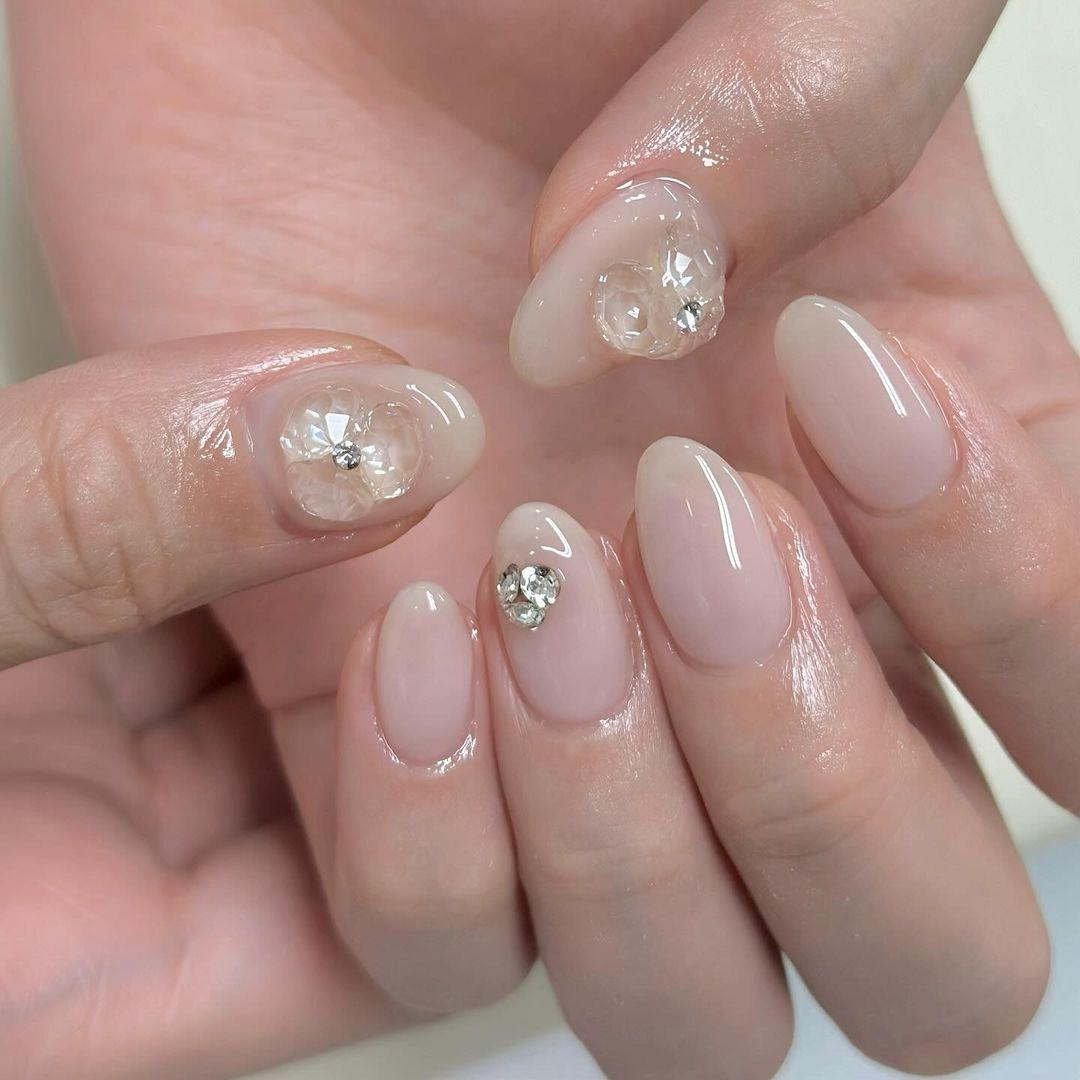nail: (507, 171, 729, 390), (771, 292, 961, 515), (238, 363, 484, 532), (633, 433, 794, 669), (489, 499, 636, 726), (369, 580, 476, 769)
